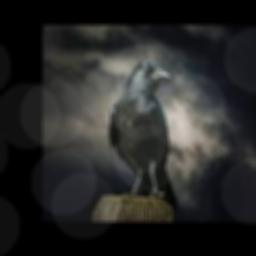Crow: (109, 61, 177, 208)
